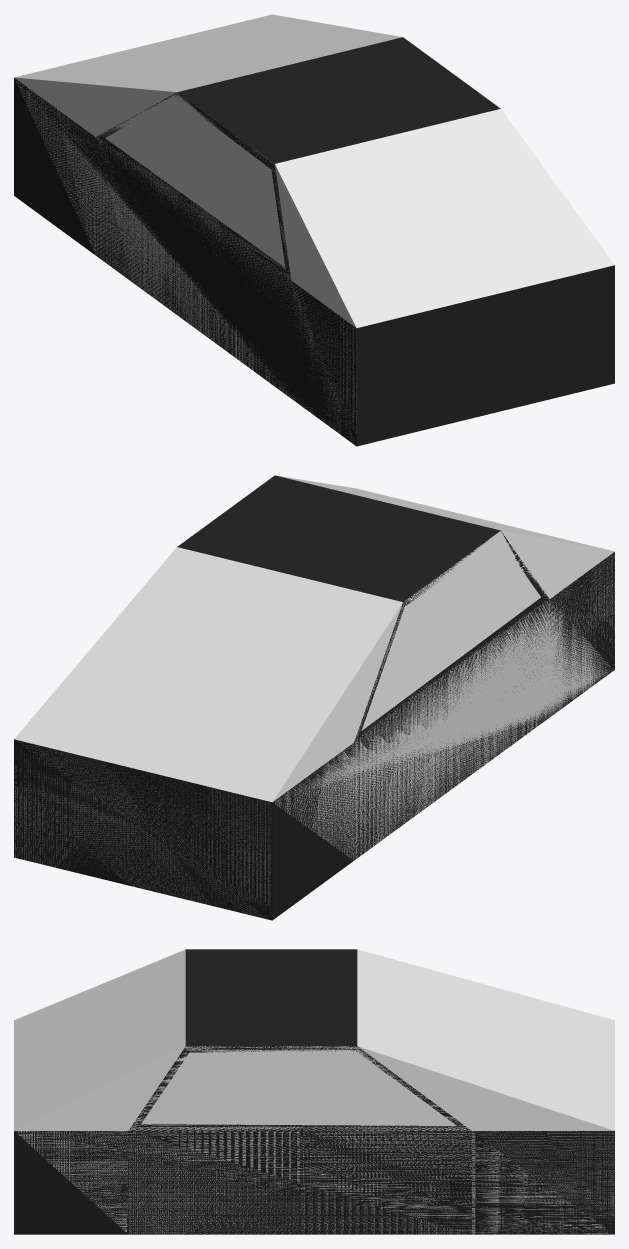
The model's file is metro.glb.
The picture shows the model from 3 angles, top to bottom: view 1: azimuth 30°, elevation 25°; view 2: azimuth 150°, elevation 25°; view 3: azimuth 270°, elevation 25°; orthographic projection. The views are drawn at different scales.
Parts seen in each view (by area): view 1: vehicles/metro, COL_hull, window.00; view 2: COL_hull, vehicles/metro, window.00; view 3: COL_hull, vehicles/metro, window.02.
Part boxes in pixels (box(x1,y1,x2,y2)): vehicles/metro: box(14, 37, 614, 446); COL_hull: box(14, 14, 614, 445); window.00: box(181, 97, 289, 270); COL_hull: box(14, 475, 614, 919); vehicles/metro: box(14, 475, 614, 920); window.00: box(406, 532, 545, 601); COL_hull: box(14, 949, 614, 1234); vehicles/metro: box(14, 949, 614, 1234); window.02: box(129, 1046, 469, 1130).
Size of the model in its own units: 2 by 1.53 by 4.59.
Materials: 2 (2 with a texture image).
